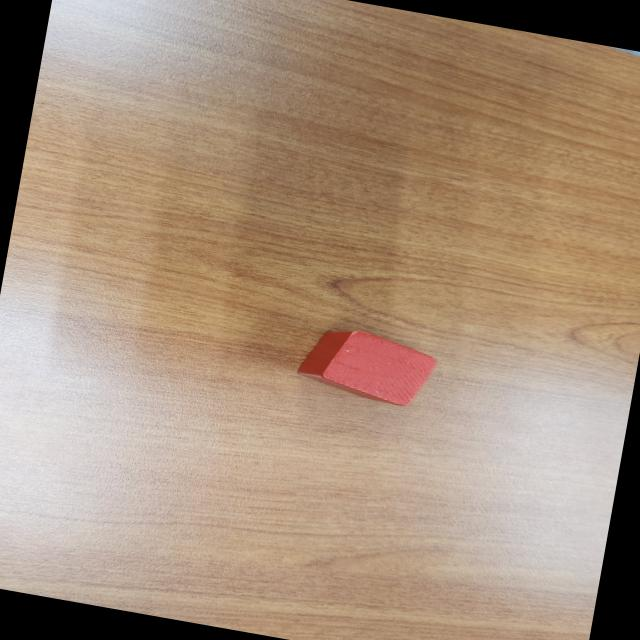red: (292, 319, 441, 412)
